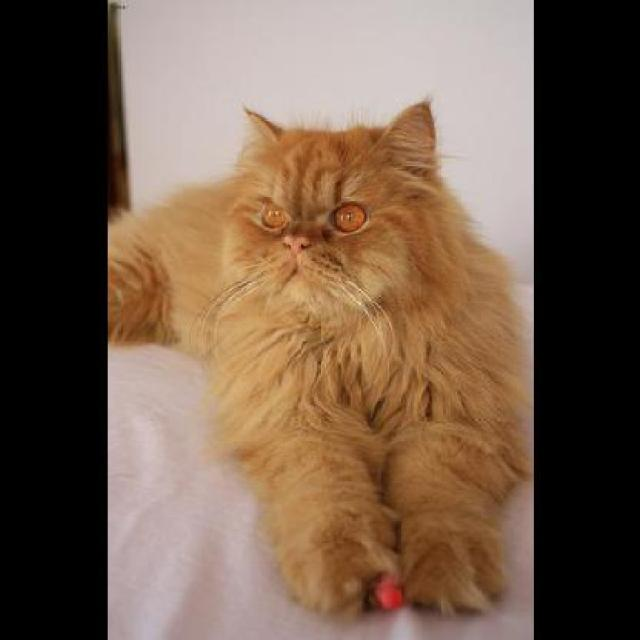unauthorized: (106, 96, 531, 618)
